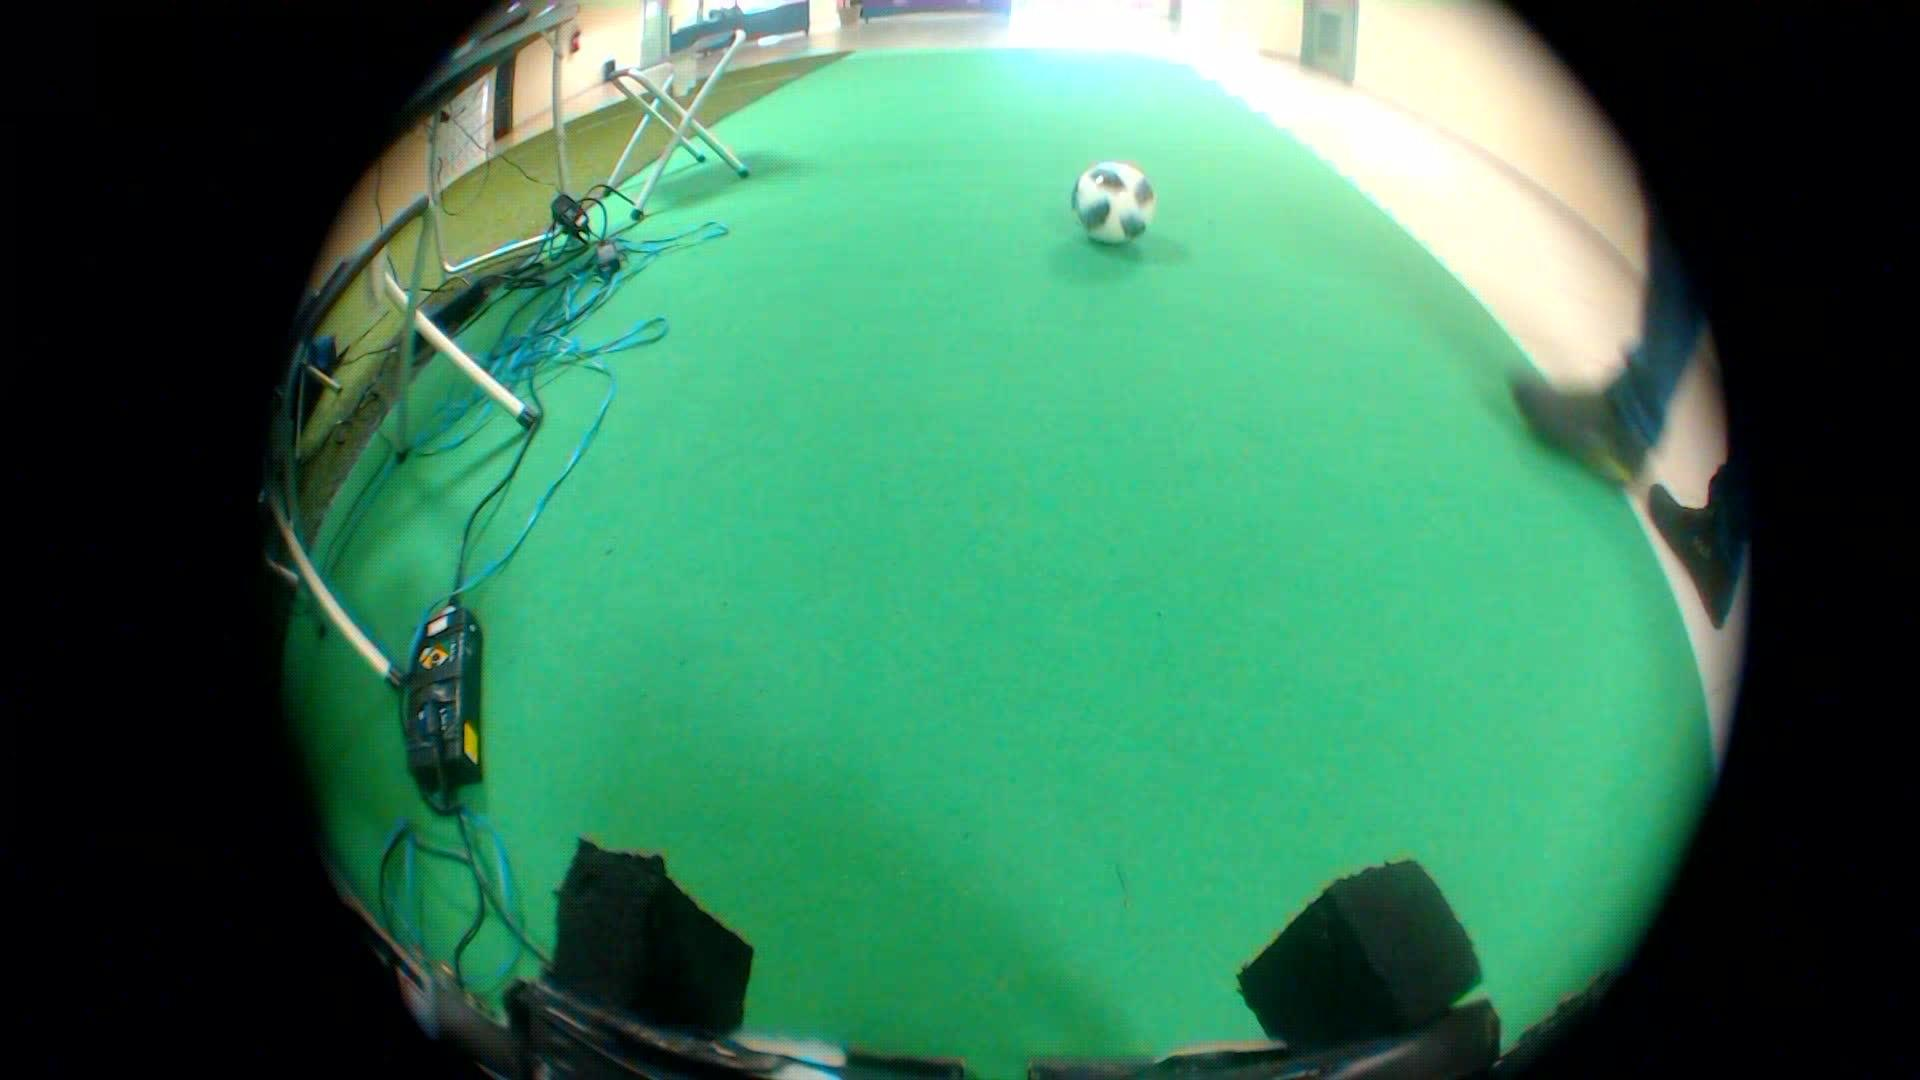ball: (1060, 149, 1164, 258)
